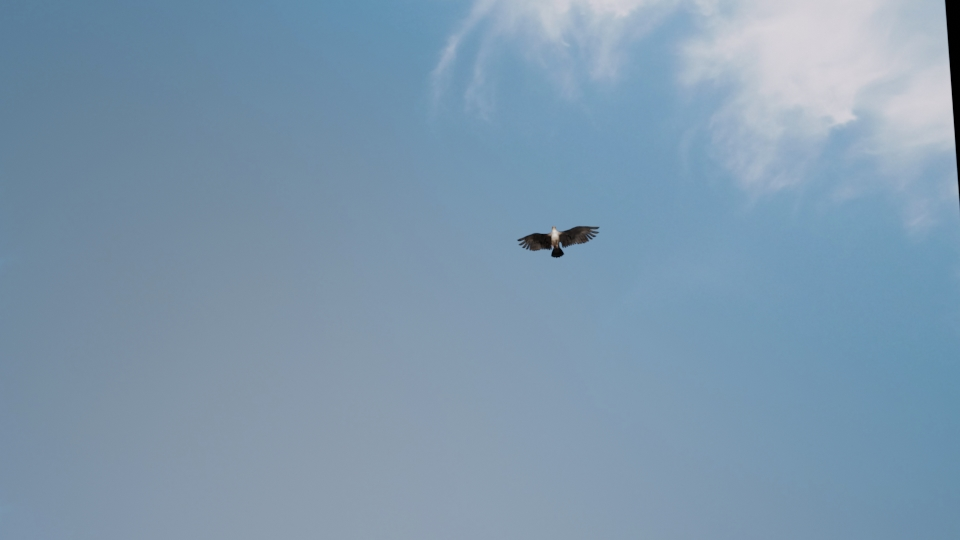bird: (516, 222, 602, 257)
